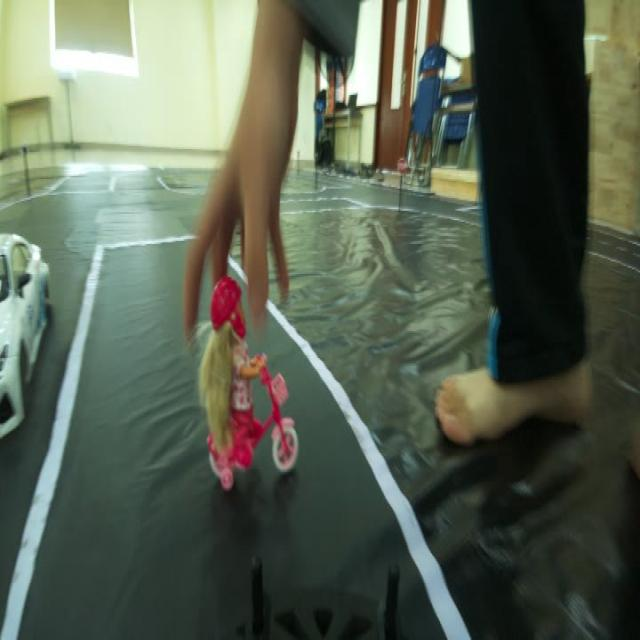pedestrian: (190, 281, 318, 481)
